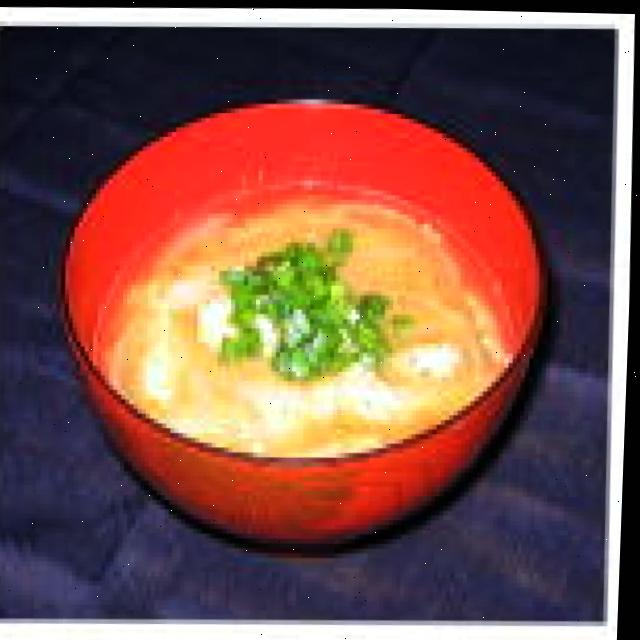汤锅炖物: (46, 73, 579, 569)
